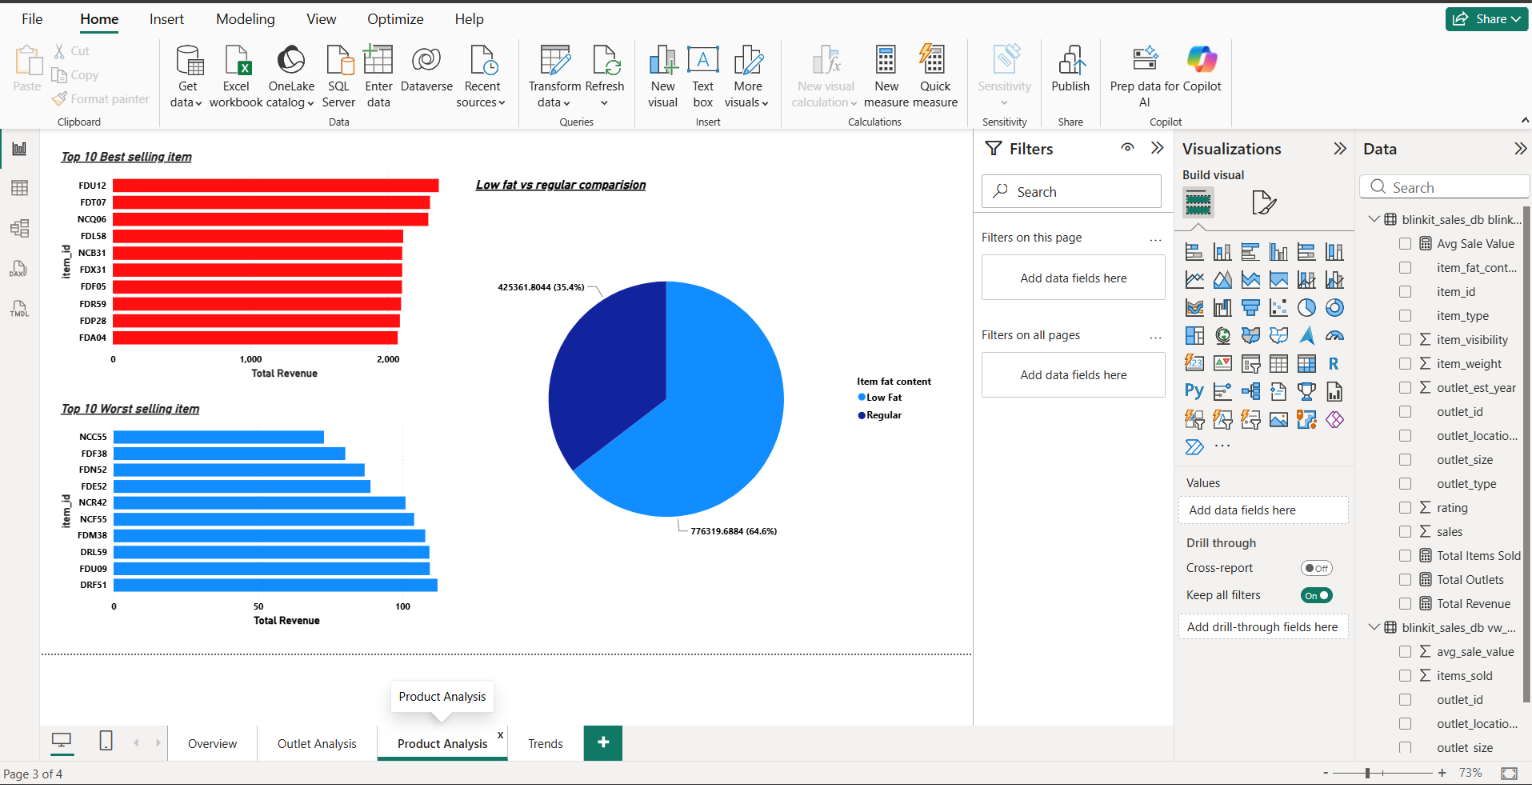

Layout of this report page (visuals, bound fields, positions):
{"tool":"powerbi","page":{"name":"Product Analysis ","canvas":[1280,720],"ordinal":2},"visuals":[{"type":"clusteredBarChart","title":"Top 10 Best selling item ","fields":{"Category":["blinkit_sales_db blinkit_cleaned.item_id"],"Y":["blinkit_sales_db blinkit_cleaned.Total Revenue"]},"box":[23.3,27.4,569.5,321.1],"z":0},{"type":"pieChart","title":"Low fat vs regular comparision ","fields":{"Category":["blinkit_sales_db blinkit_cleaned.item_fat_content"],"Y":["blinkit_sales_db blinkit_cleaned.Total Revenue"]},"box":[592.8,65.9,661.4,591.4],"z":1},{"type":"clusteredBarChart","title":"Top 10 Worst selling item ","fields":{"Y":["blinkit_sales_db blinkit_cleaned.Total Revenue"],"Category":["blinkit_sales_db blinkit_cleaned.item_id"]},"box":[23.3,373.2,569.5,314.2],"z":2}]}

Visuals, with their boxes on the page's 1280x720 design canvas (x1, y1, x2, y2). These are canvas units, not pixel positions in the 1532x785 screenshot, which may show the page scaled, cropped or inside an application window:
"Top 10 Best selling item " clusteredBarChart: {"x1": 23, "y1": 27, "x2": 593, "y2": 348}
"Low fat vs regular comparision " pieChart: {"x1": 593, "y1": 66, "x2": 1254, "y2": 657}
"Top 10 Worst selling item " clusteredBarChart: {"x1": 23, "y1": 373, "x2": 593, "y2": 687}
